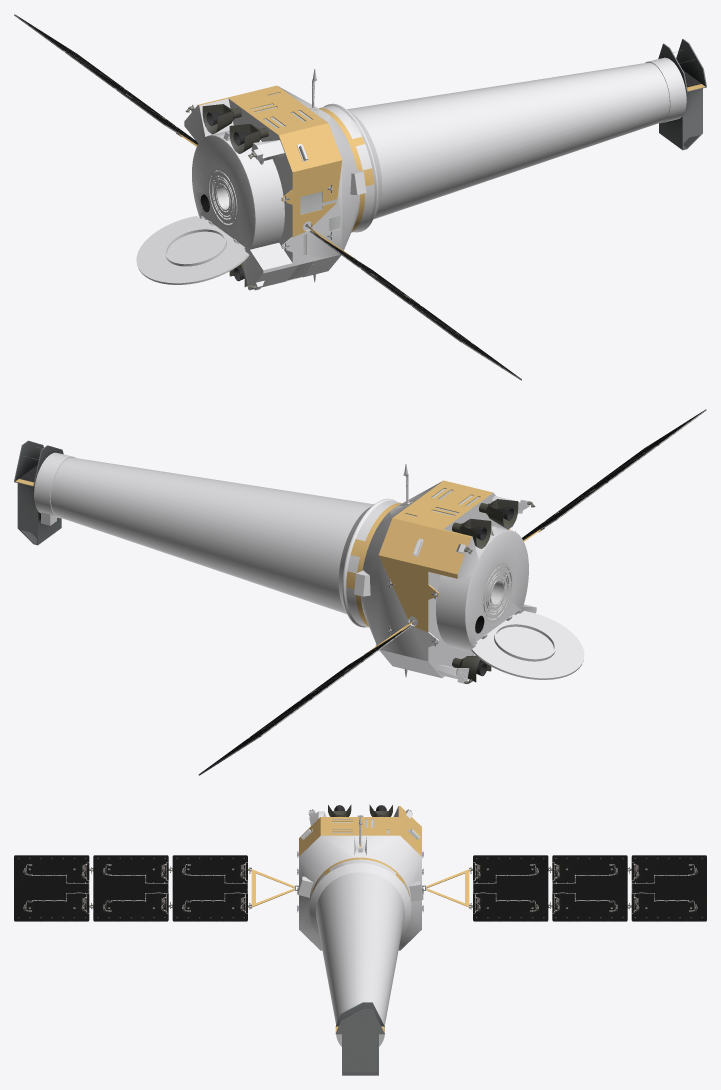
Rendered from chandra.glb.
3 views of the same model, one above another, from view 1: azimuth 30°, elevation 25°; view 2: azimuth 150°, elevation 25°; view 3: azimuth 270°, elevation 25° (orthographic). The views are drawn at different scales.
Visible parts, largest first — view 1: foil_silver, tex_01, foil_gold, AO_HRMA; view 2: foil_silver, foil_gold, tex_01, AO_HRMA; view 3: tex_01, foil_silver, foil_gold.
Boxes of the visible parts, x1,y1,x2,y2 form: foil_silver: (136,57,686,290); tex_01: (14,14,706,380); foil_gold: (180,84,704,257); AO_HRMA: (207,167,340,227); foil_silver: (34,452,584,683); foil_gold: (16,479,540,652); tex_01: (14,409,706,775); AO_HRMA: (482,562,512,622); tex_01: (14,804,706,1075); foil_silver: (297,806,423,1046); foil_gold: (251,806,469,1032).
Size of the model in its own units: 13.78 by 5.14 by 19.51.
Materials: 5 (1 with a texture image).
